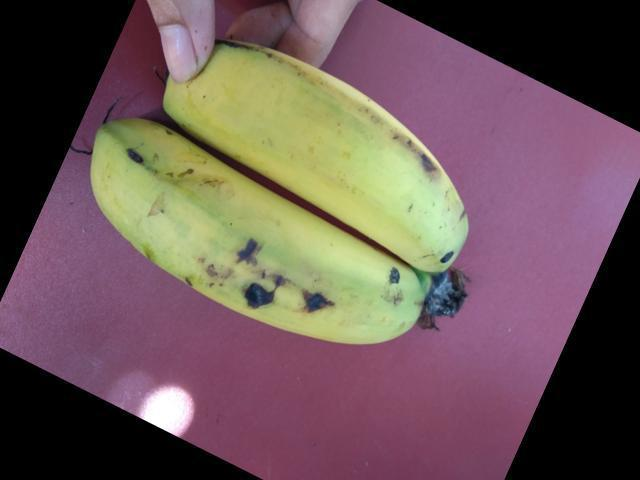ripe: (75, 116, 425, 376), (171, 22, 479, 249)
